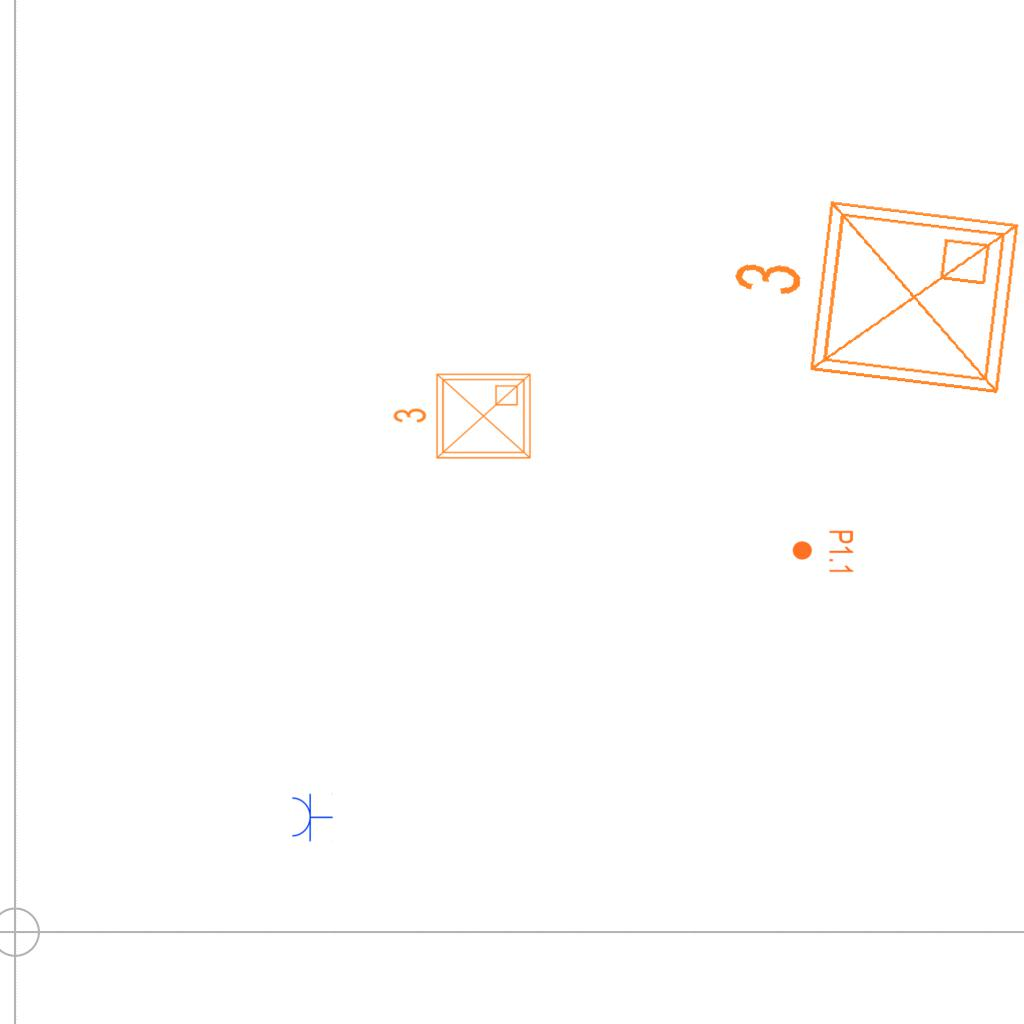Downlight_LED_Einbauleuchten_Flur: (791, 529, 855, 575)
Einbaudownlights_LED_Konferenzraeume: (711, 174, 1024, 418), (388, 366, 538, 470)
Schukosteckdose_einfach: (290, 792, 333, 842)
